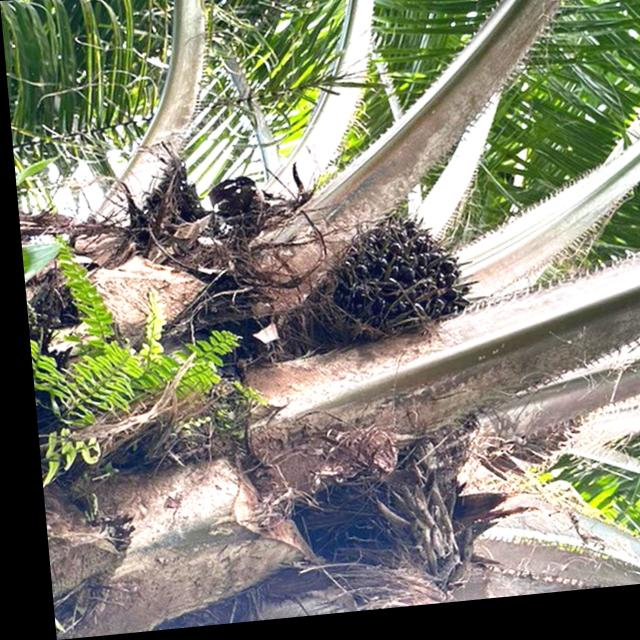almost: (307, 204, 482, 351)
